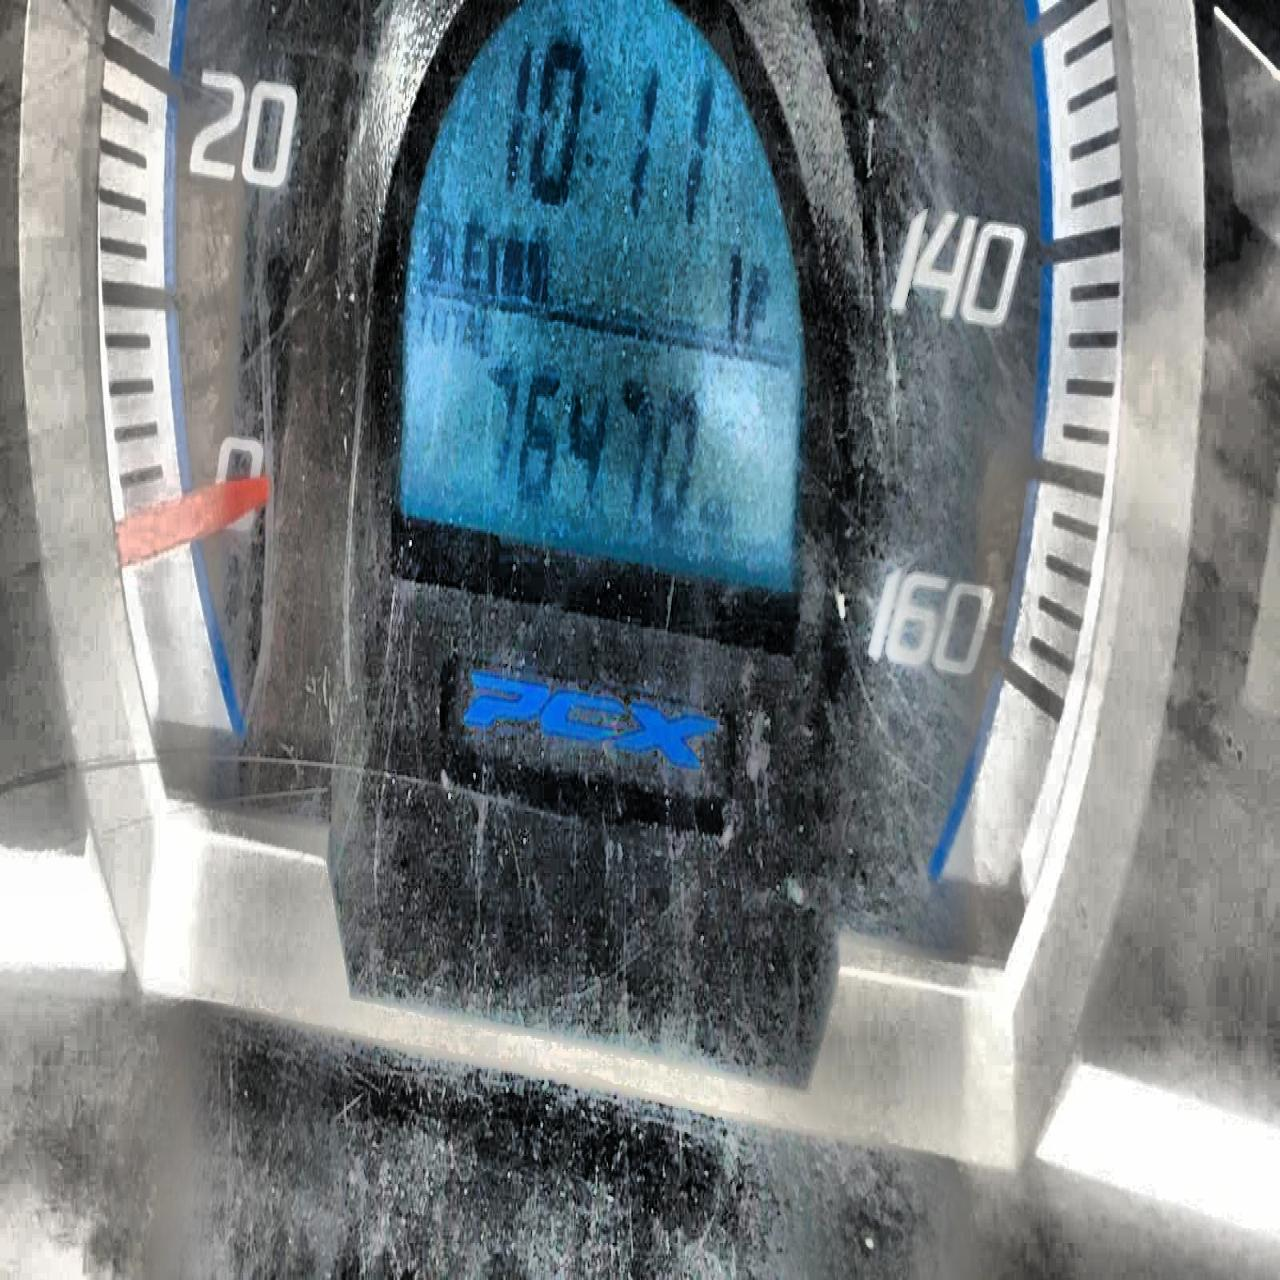0: (530, 33, 585, 209), (654, 380, 694, 533)
1: (501, 26, 538, 198), (628, 55, 662, 237), (681, 61, 717, 231)
4: (565, 369, 608, 502)
6: (520, 361, 559, 509)
7: (618, 361, 658, 531), (485, 355, 519, 493)
X: (742, 256, 771, 342), (461, 209, 486, 297), (429, 300, 448, 353), (449, 300, 464, 359), (462, 301, 476, 362), (416, 292, 431, 346)
odometer: (380, 0, 810, 622)
